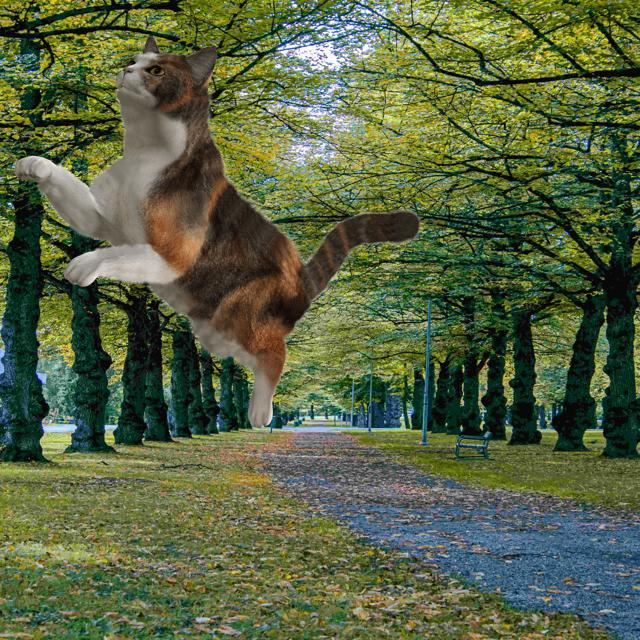cat: (15, 22, 421, 435)
